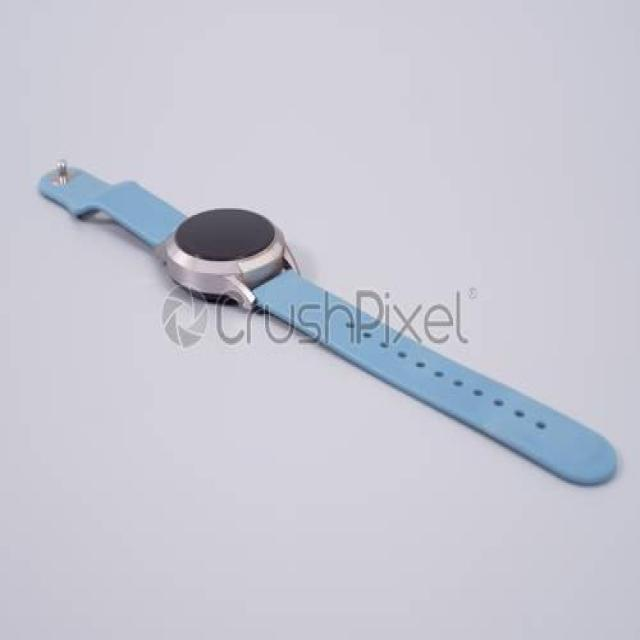watch: (42, 143, 614, 532)
